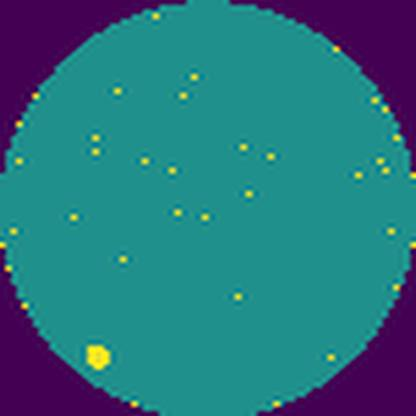Edge-Loc: (85, 340, 111, 370)
